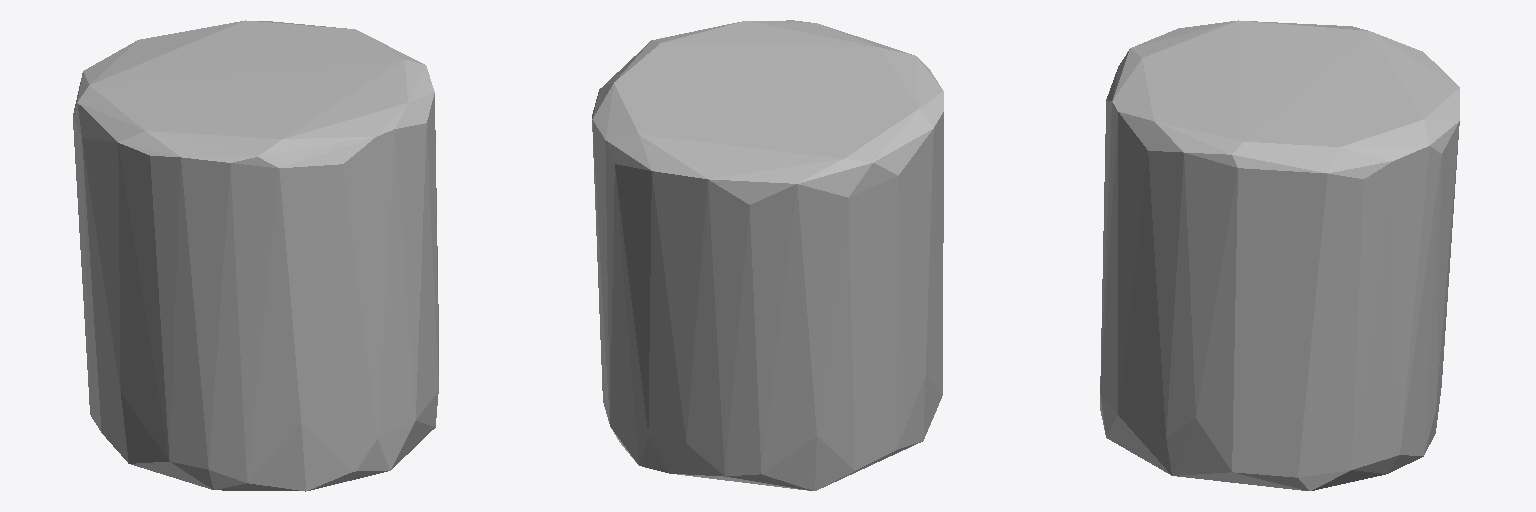
robot.urdf — root:
<robot name="root"><link name="link_Peanuts_800_tex_0000"><inertial><origin rpy="0 0 0" xyz="0 0 0" /><mass value="3.63E-01" /><inertia ixx="1.11E-04" ixy="7.49E-08" ixz="4.18E-07" iyy="1.11E-04" iyz="-9.86E-07" izz="8.90E-05" /></inertial><visual><origin rpy="0 0 0" xyz="0 0 0" /><geometry><mesh filename="package://Peanuts_800_tex/Peanuts_800_tex_0000.obj" /></geometry><material name=""><color rgba="0.75 0.75 0.75 1" /></material></visual><collision><origin rpy="0 0 0" xyz="0 0 0" /><geometry><mesh filename="package://Peanuts_800_tex/Peanuts_800_tex_0000.obj" /></geometry></collision></link></robot>

--- What the picture shows (computed from the rendered views, not written in the file) ---
Views: 3 orthographic renders of the robot side by side, from view 1: azimuth 30°, elevation 25°; view 2: azimuth 150°, elevation 25°; view 3: azimuth 270°, elevation 25°.
Robot: root — 1 links, 0 joints (none); root link link_Peanuts_800_tex_0000; default pose: every joint at zero.
Visible links, largest first — view 1: link_Peanuts_800_tex_0000; view 2: link_Peanuts_800_tex_0000; view 3: link_Peanuts_800_tex_0000.
Link boxes in pixels (x1,y1,x2,y2): link_Peanuts_800_tex_0000: [73, 20, 438, 491]; link_Peanuts_800_tex_0000: [592, 20, 943, 490]; link_Peanuts_800_tex_0000: [1100, 20, 1459, 490].
Size in the robot's own frame: 0.0442 by 0.0457 by 0.0488 metres.
Meshes: 1 distinct files referenced, 1 mesh visuals loaded (1 OBJ).